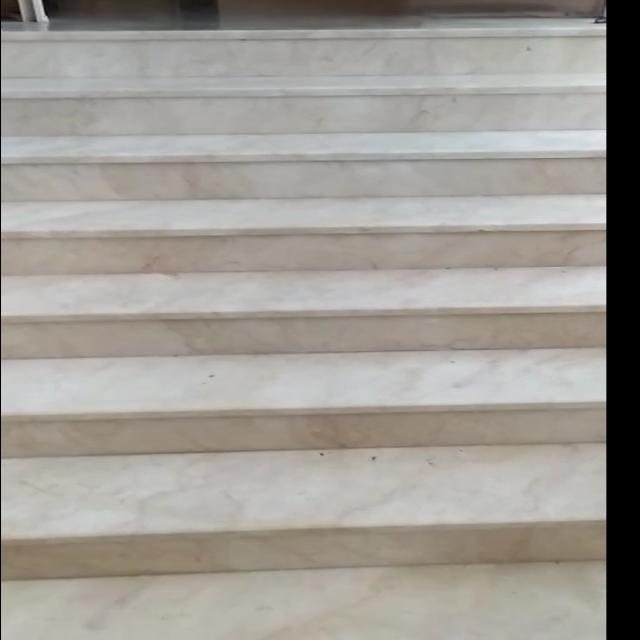stairs: (0, 19, 608, 580)
